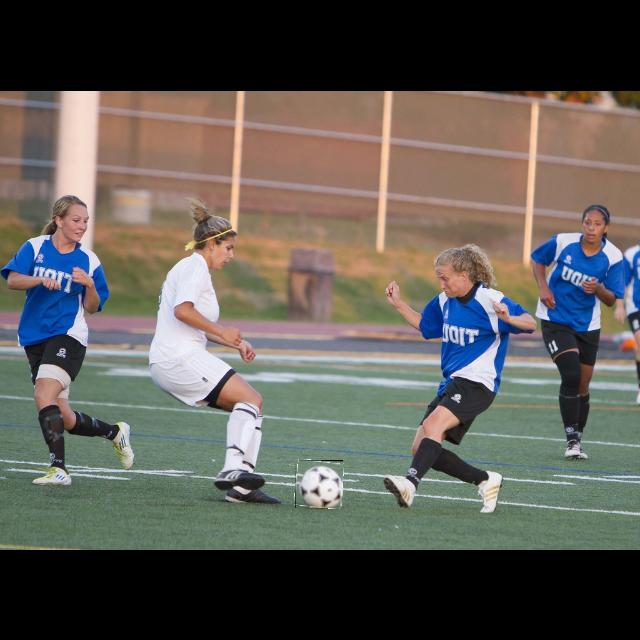Football: (295, 460, 343, 508)
